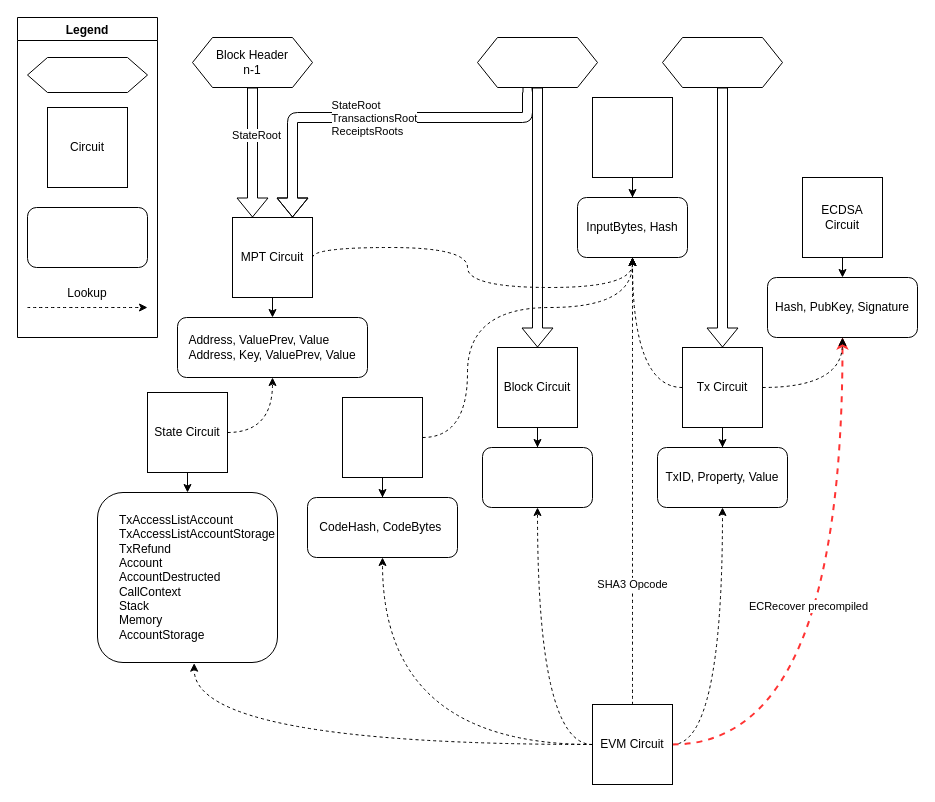
This 935x802 diagram has some shape labels left out. The shapes that lost their labels are listed below. From the top down, each one's box as (x1, y1, x2, y2) in pixels, then its label:
(26, 56, 148, 92): Public Input
(476, 36, 598, 88): Block Header n
(662, 36, 782, 88): Transactions
(592, 96, 672, 178): Keccak Circuit
(26, 206, 148, 268): Lookup Table
(342, 396, 422, 478): Bytecode Circuit
(482, 446, 592, 508): Property, Value
